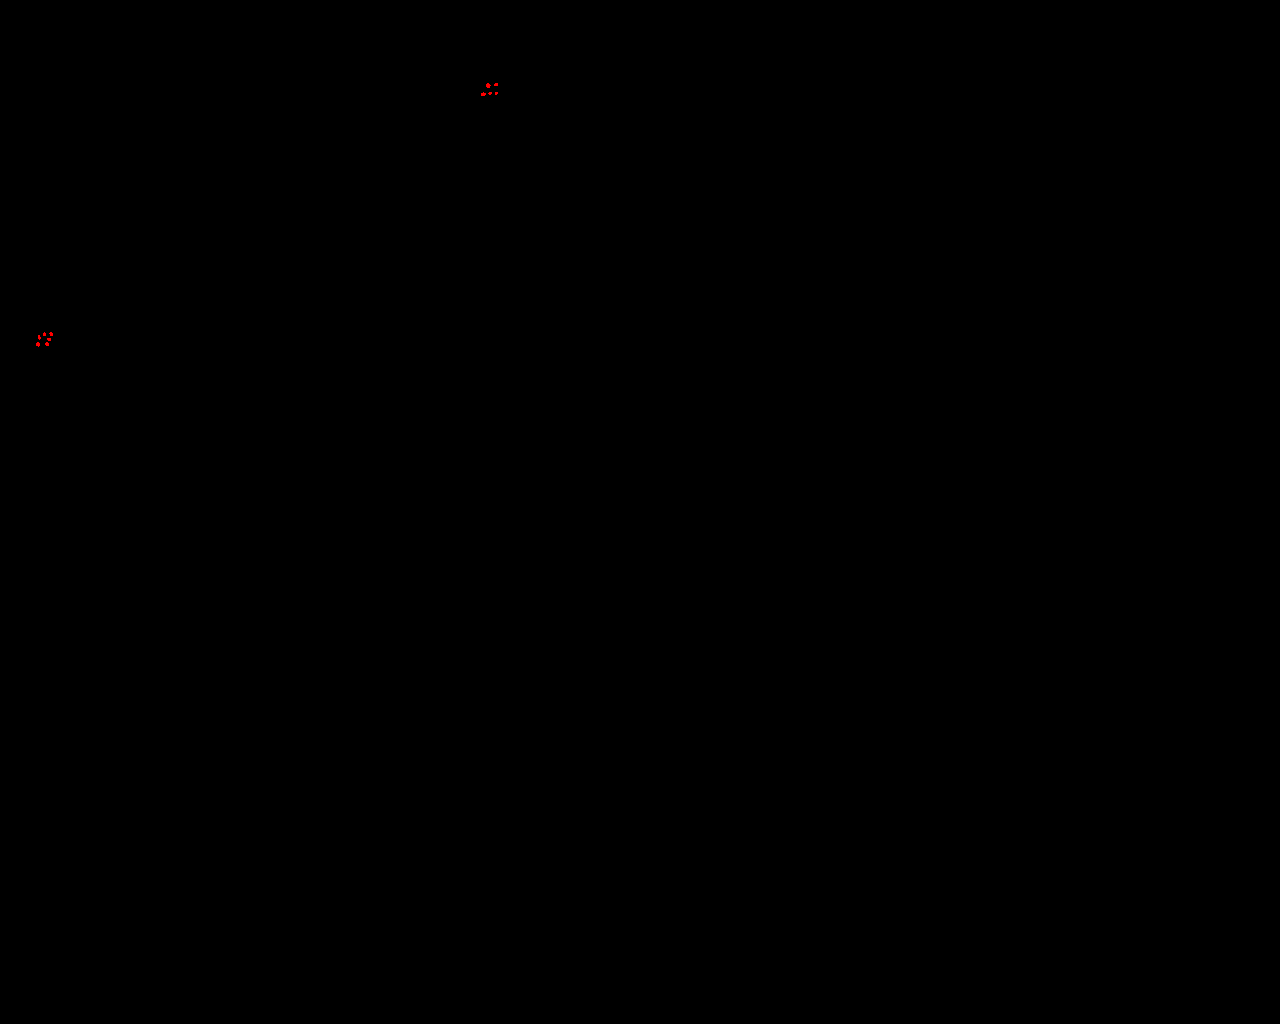Target: (486, 83, 491, 88), (481, 92, 486, 96), (36, 342, 40, 347), (49, 332, 53, 336), (45, 342, 49, 346), (494, 83, 498, 86), (488, 92, 492, 95), (43, 332, 46, 336), (38, 335, 41, 340), (47, 338, 51, 341), (495, 92, 498, 95)
